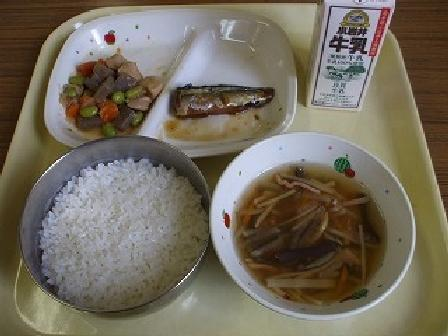Fish: (163, 56, 281, 144)
Milk: (297, 1, 405, 118)
Rice: (23, 135, 215, 317)
Soups: (210, 129, 407, 315)
cooked food meat with vegetables: (48, 49, 163, 136)
